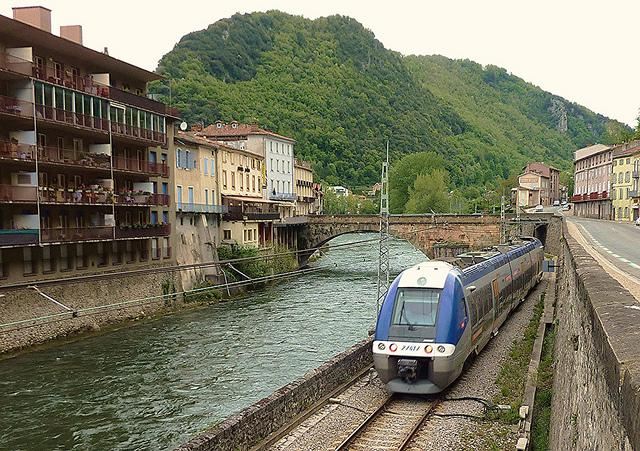Train: (369, 232, 552, 397)
